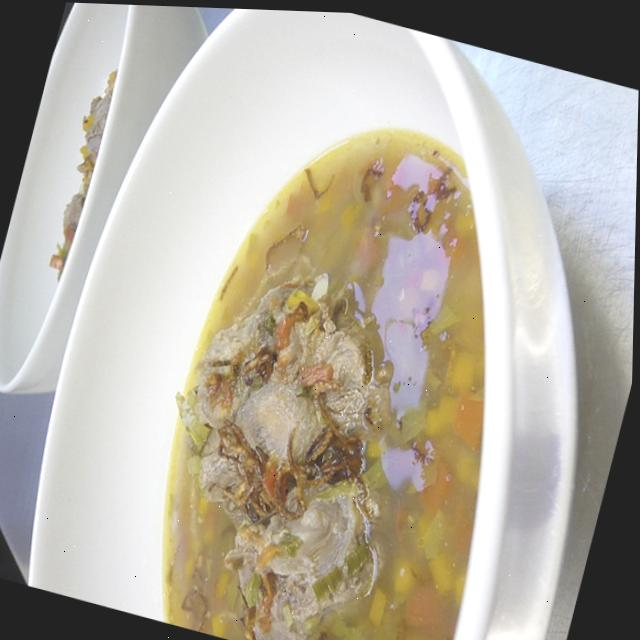汤锅炖物: (20, 6, 640, 640)
